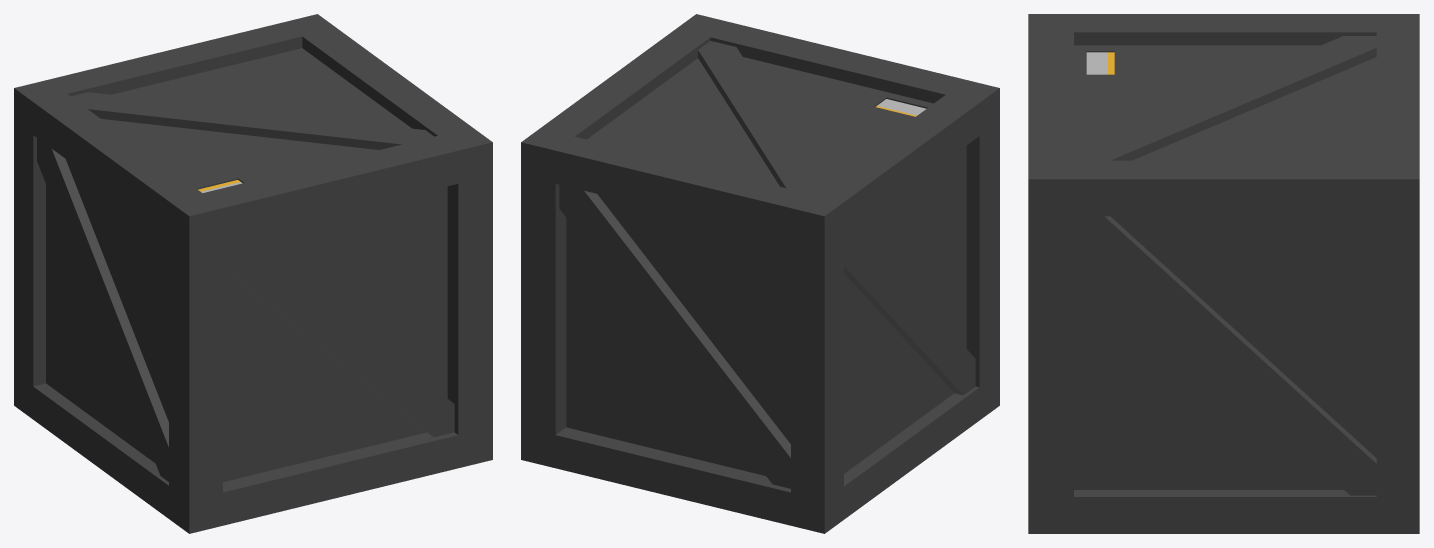
3 views of the same model, side by side, from view 1: azimuth 30°, elevation 25°; view 2: azimuth 150°, elevation 25°; view 3: azimuth 270°, elevation 25° (orthographic). The views are drawn at different scales.
Parts seen in each view (by area): view 1: Box2_LOD0; view 2: Box2_LOD0; view 3: Box2_LOD0.
Boxes of the visible parts, x1,y1,x2,y2 form: Box2_LOD0: (14, 14, 492, 533); Box2_LOD0: (521, 14, 999, 533); Box2_LOD0: (1028, 14, 1419, 533).
Size of what is drawn, in the model's own units: 286 by 286 by 286.
Materials: 1 (1 with a texture image).
